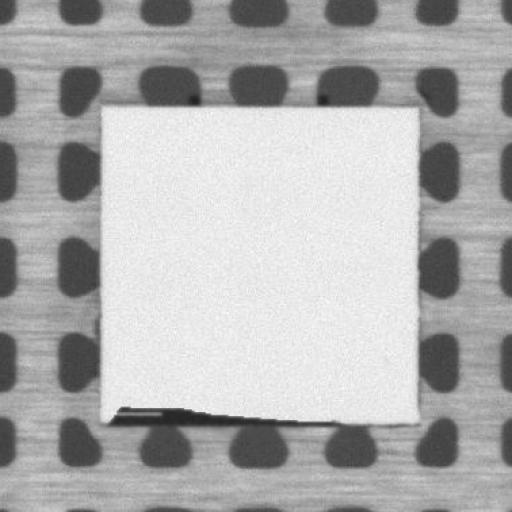DIE_BROKEN: (102, 401, 341, 427)
